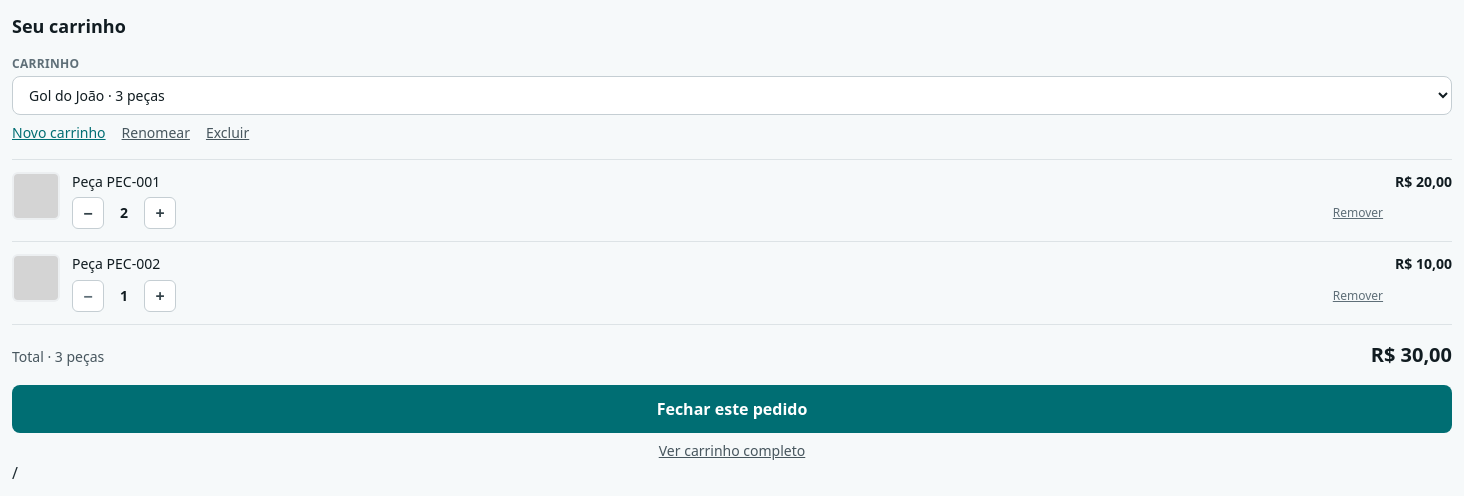
Test case: PainelCarrinho: editar itens › remover tira a linha
The width and height of the screenshot is (1464, 496).
Check: the link "Peça PEC-001" is shown, box [72,172,160,191]
Click the button with aria-label "Remover Peça PEC-001" at x=1358, y=213, box [1333,205,1383,221]
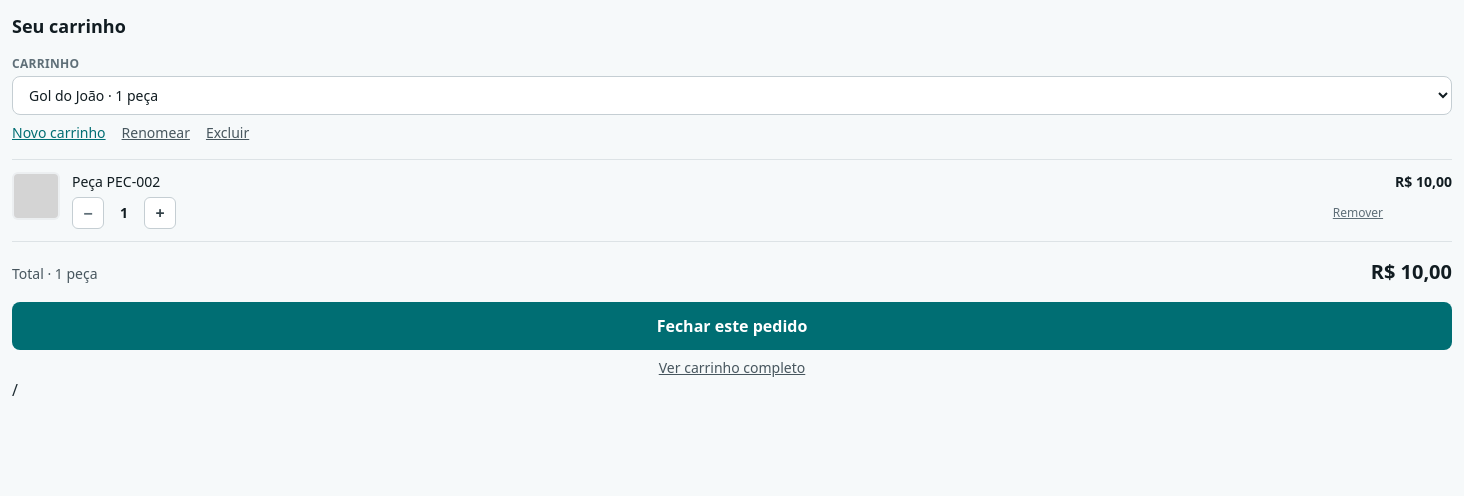
Check: the link "Peça PEC-001" is gone
